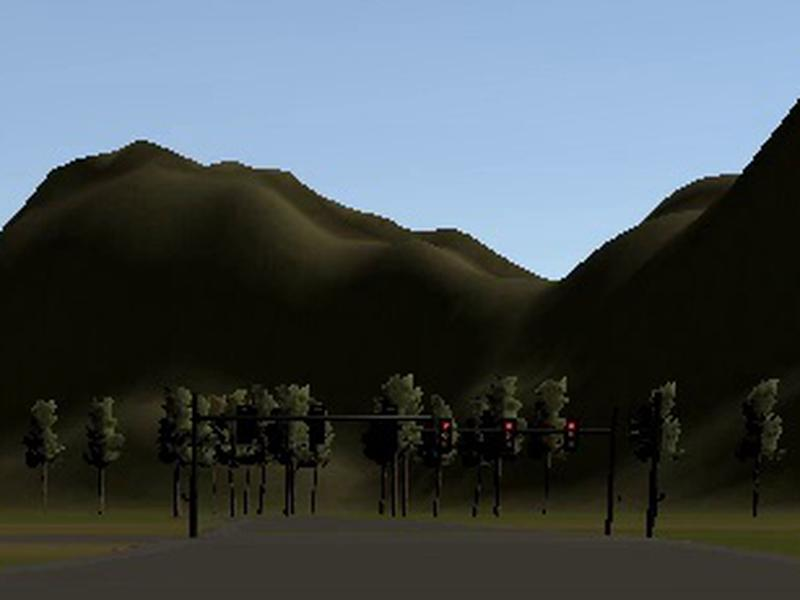Red: (438, 417, 453, 455), (501, 418, 516, 453), (564, 420, 579, 451)
